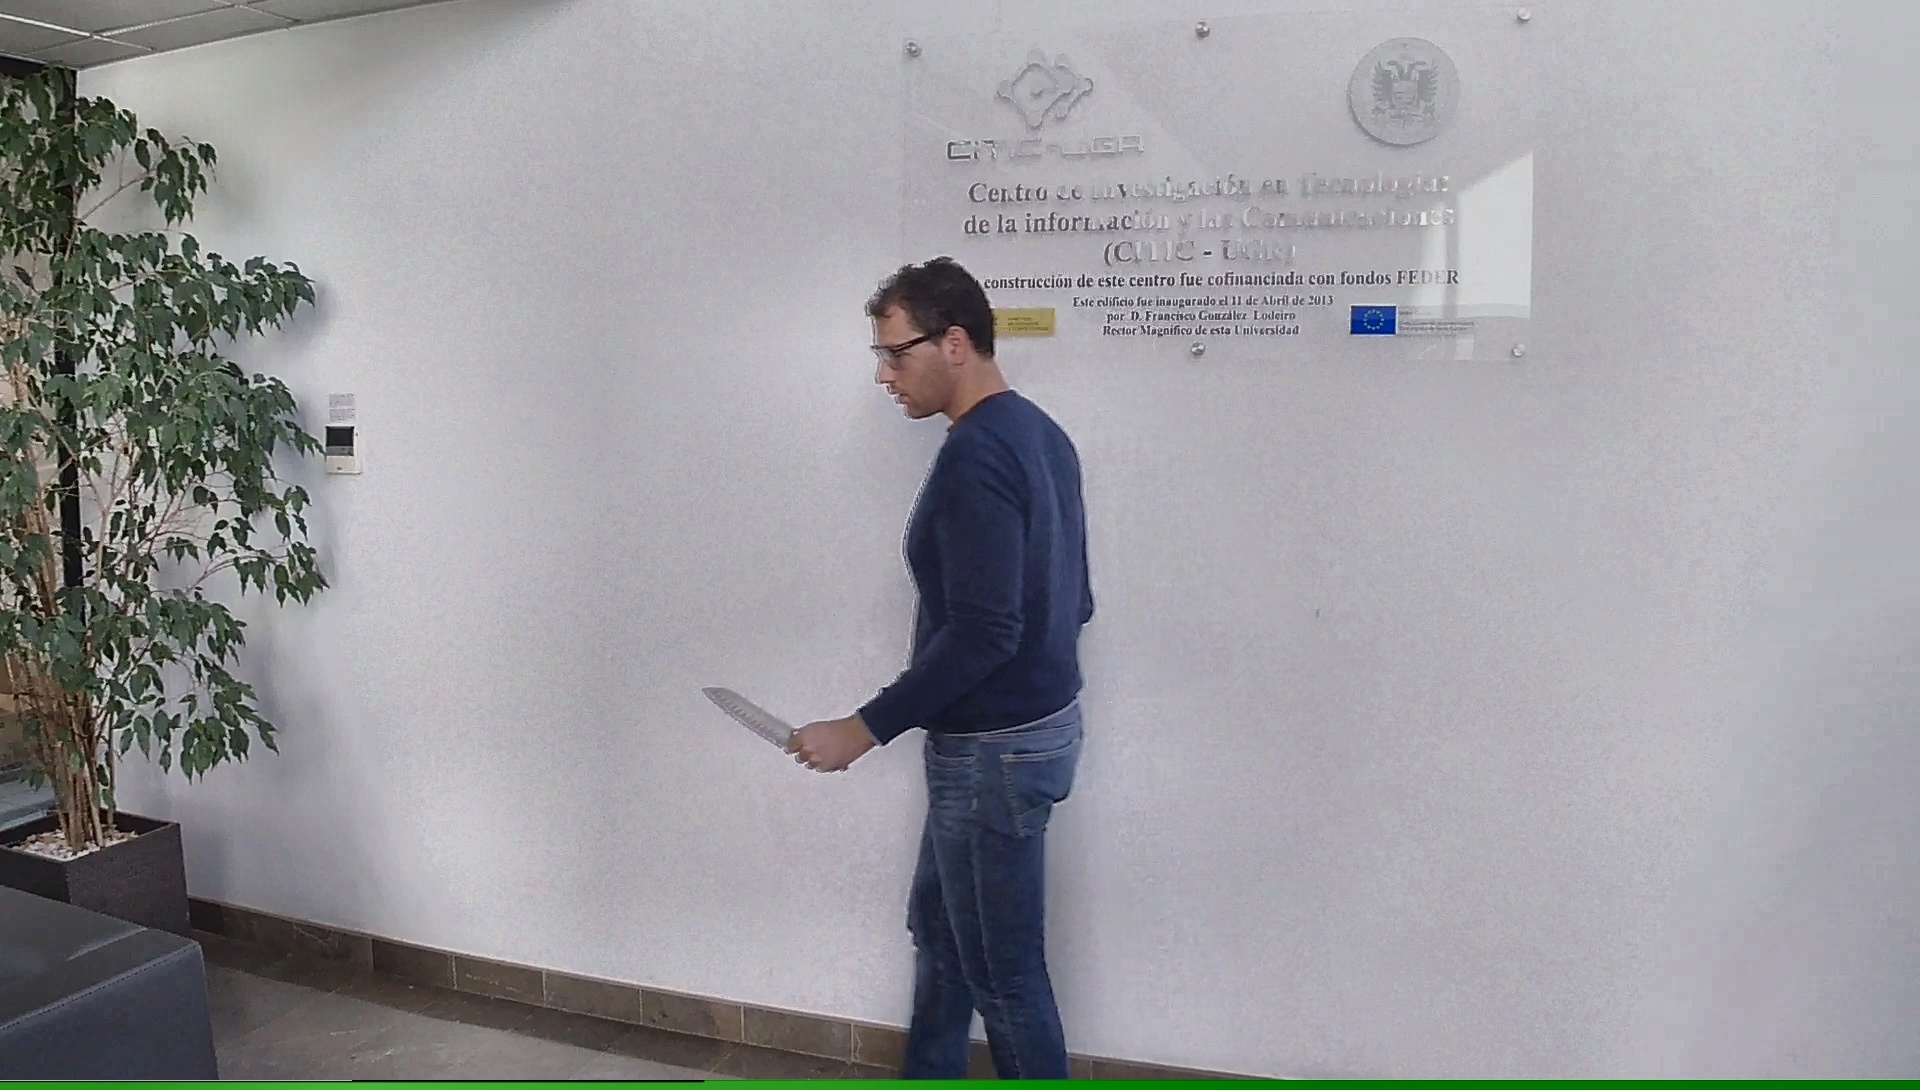knife: (690, 680, 851, 778)
